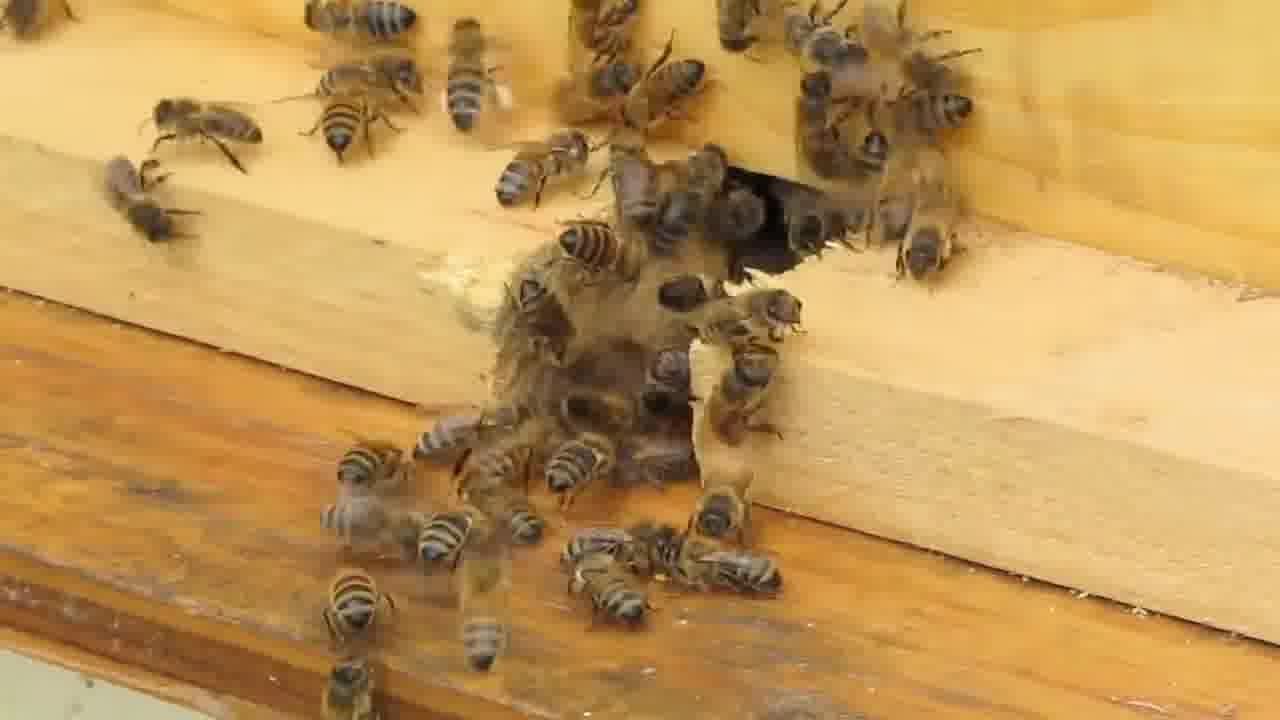pollen: (437, 15, 514, 138)
